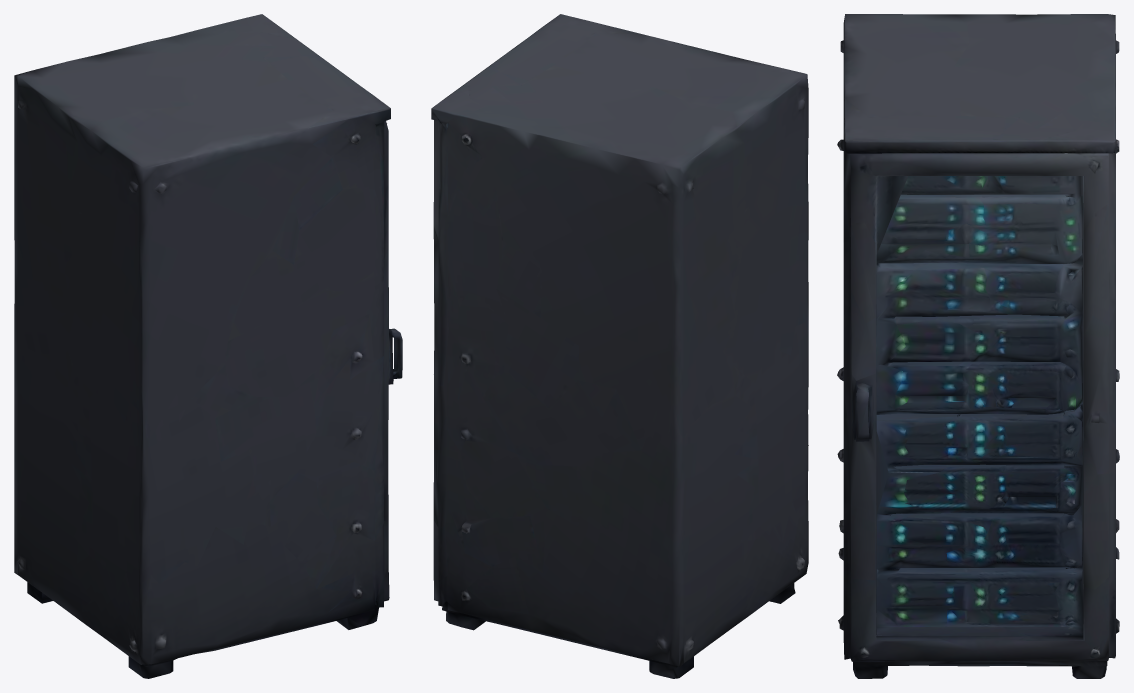
The model's file is rack.glb.
3 renders of one model, left to right at view 1: azimuth 30°, elevation 25°; view 2: azimuth 150°, elevation 25°; view 3: azimuth 270°, elevation 25°, orthographic. The views are drawn at different scales.
Visible parts, largest first — view 1: tripo_node_6f97f1b3-e8ca-4c7a-bb78-96a99848edea; view 2: tripo_node_6f97f1b3-e8ca-4c7a-bb78-96a99848edea; view 3: tripo_node_6f97f1b3-e8ca-4c7a-bb78-96a99848edea.
Part boxes in pixels (left/top/right/bottom): tripo_node_6f97f1b3-e8ca-4c7a-bb78-96a99848edea: left=14, top=14, right=402, bottom=678; tripo_node_6f97f1b3-e8ca-4c7a-bb78-96a99848edea: left=431, top=14, right=808, bottom=678; tripo_node_6f97f1b3-e8ca-4c7a-bb78-96a99848edea: left=837, top=14, right=1119, bottom=678.
Size of the model in its own units: 0.5478 by 1 by 0.4725.
Materials: 1 (1 with a texture image).
